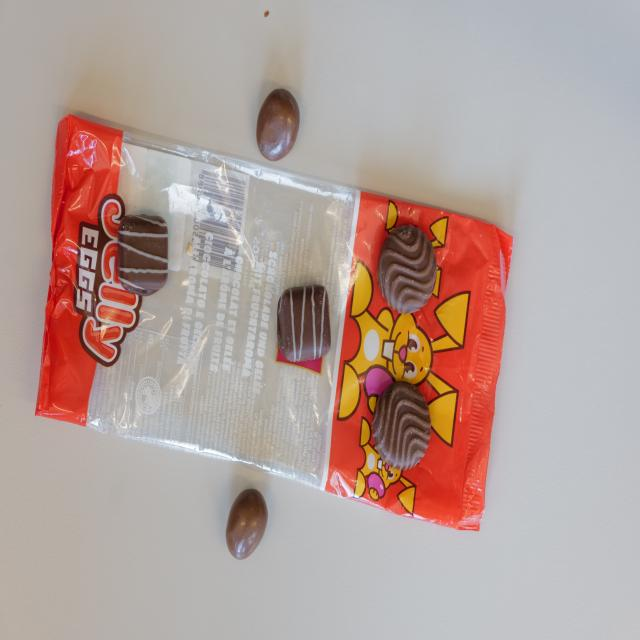Jelly_Milk: (256, 87, 298, 162), (225, 488, 267, 559)
Noir_authentique: (372, 380, 432, 470), (378, 224, 437, 313)
Stracciatella: (116, 213, 169, 294), (276, 284, 328, 361)
